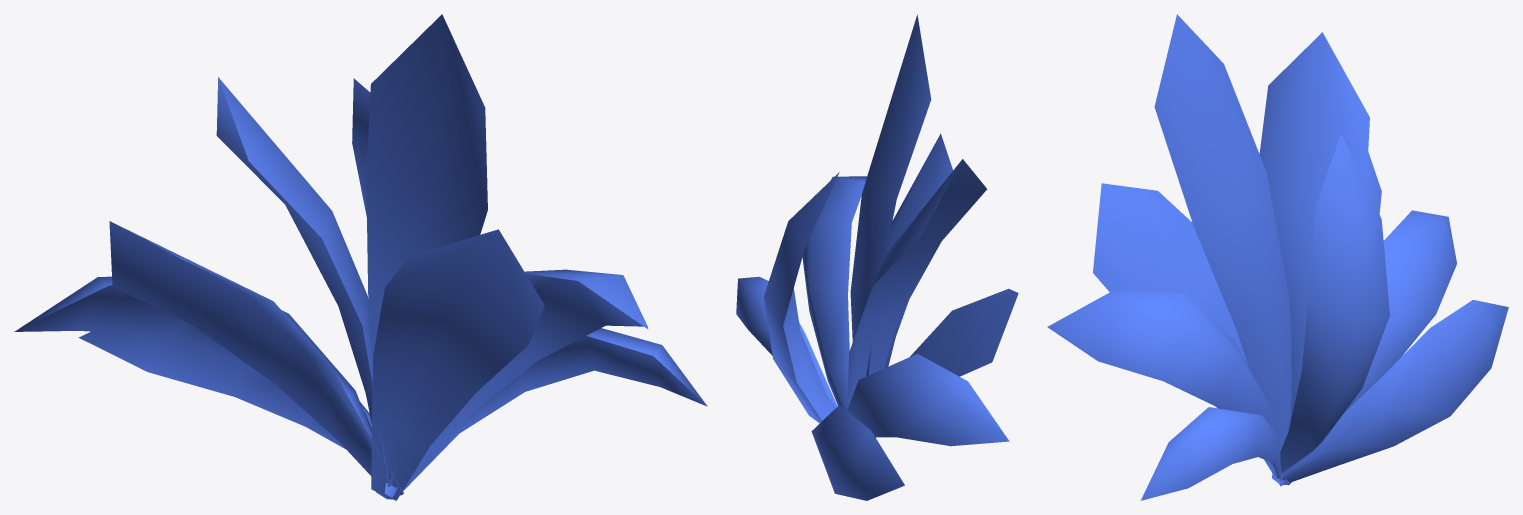
Rendered from PlantSF_08.glb.
3 views of the same model, side by side, from view 1: azimuth 30°, elevation 25°; view 2: azimuth 150°, elevation 25°; view 3: azimuth 270°, elevation 25° (orthographic). The views are drawn at different scales.
Visible parts, largest first — view 1: PlantSF_08; view 2: PlantSF_08; view 3: PlantSF_08.
Boxes of the visible parts, left/top/right/bottom form: PlantSF_08: left=14, top=14, right=707, bottom=500; PlantSF_08: left=736, top=14, right=1018, bottom=500; PlantSF_08: left=1047, top=14, right=1508, bottom=500.
Bounding box in the file's own units: 1.11 × 1.1 × 0.9815.
Materials: 1 (1 with a texture image).
